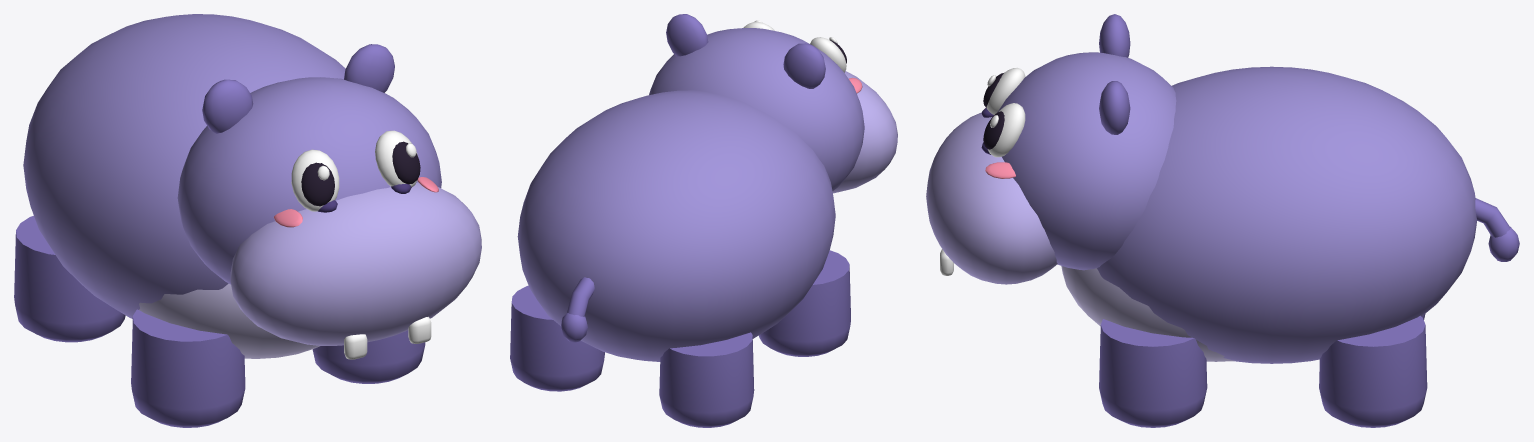
Rendered from Hippo.fbx.
3 renders of one model, left to right at view 1: azimuth 30°, elevation 25°; view 2: azimuth 150°, elevation 25°; view 3: azimuth 270°, elevation 25°, orthographic. The views are drawn at different scales.
Visible parts, largest first — view 1: Body_9C8FD6, Snout_B9ADEB, LegFL_8576C4, LegBL_8576C4, Belly_CFC6F2, Ears_8576C4, LegFR_8576C4, Eyes_FFFFFF, Pupils_241B2F, Teeth_FFFFFF, Blush_FF8FAB; view 2: Body_9C8FD6, LegBL_8576C4, LegBR_8576C4, LegFL_8576C4, Snout_B9ADEB, Ears_8576C4, Tail_8576C4, Eyes_FFFFFF; view 3: Body_9C8FD6, Snout_B9ADEB, LegFR_8576C4, LegBR_8576C4, Belly_CFC6F2, Ears_8576C4, Eyes_FFFFFF, Tail_8576C4, Pupils_241B2F.
Part boxes in pixels (x1,y1,x2,y2): Body_9C8FD6: (23,14,441,318); Snout_B9ADEB: (230,182,481,345); LegFL_8576C4: (131,309,245,427); LegBL_8576C4: (14,215,125,342); Belly_CFC6F2: (139,283,319,358); Ears_8576C4: (202,44,394,133); LegFR_8576C4: (312,330,425,383); Eyes_FFFFFF: (291,130,418,211); Pupils_241B2F: (301,141,420,206); Teeth_FFFFFF: (344,316,431,359); Blush_FF8FAB: (273,177,438,227); Body_9C8FD6: (517,28,864,361); LegBL_8576C4: (659,332,754,427); LegBR_8576C4: (510,285,604,391); LegFL_8576C4: (759,250,850,356); Snout_B9ADEB: (832,71,897,193); Ears_8576C4: (666,14,825,88); Tail_8576C4: (561,277,594,342); Eyes_FFFFFF: (743,22,846,72); Body_9C8FD6: (997,52,1476,363); Snout_B9ADEB: (926,112,1057,284); LegFR_8576C4: (1099,319,1207,427); LegBR_8576C4: (1319,315,1427,427); Belly_CFC6F2: (1061,266,1234,361); Ears_8576C4: (1099,14,1130,134); Eyes_FFFFFF: (986,67,1025,157); Tail_8576C4: (1475,198,1519,261); Pupils_241B2F: (983,73,1004,149).
Bounding box in the file's own units: 1.96 × 2.03 × 3.4.
